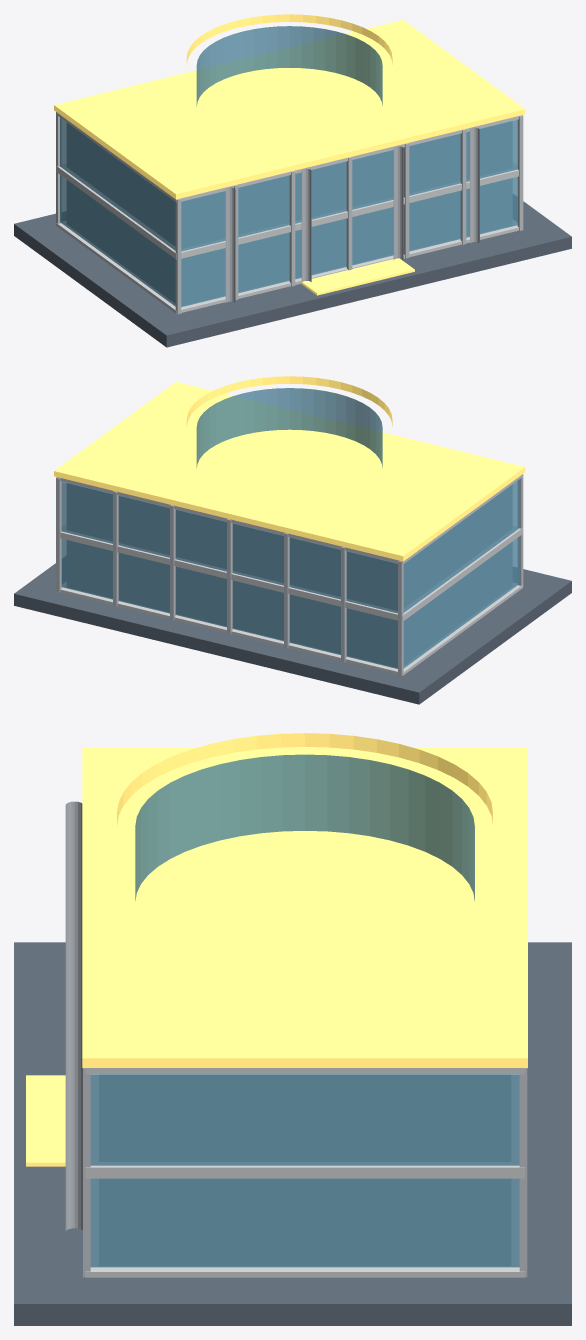
Rendered from vip_hospitality.master.glb.
3 views of the same model, one above another, from view 1: azimuth 30°, elevation 25°; view 2: azimuth 150°, elevation 25°; view 3: azimuth 270°, elevation 25° (orthographic). The views are drawn at different scales.
Parts seen in each view (by area): view 1: vip_hospitality_master; view 2: vip_hospitality_master; view 3: vip_hospitality_master.
Boxes of the visible parts, x1,y1,x2,y2 form: vip_hospitality_master: (14,14,571,347); vip_hospitality_master: (14,376,571,704); vip_hospitality_master: (14,733,571,1325).
Bounding box in the file's own units: 2.82 × 1.21 × 1.84.
